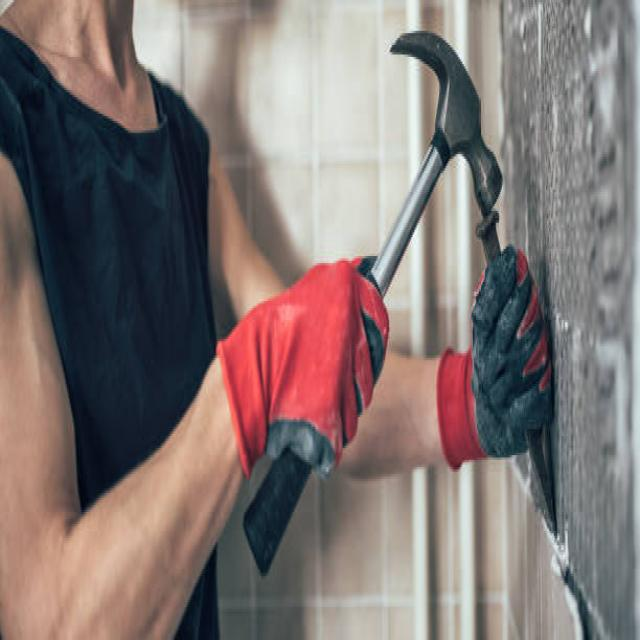gloves: (213, 249, 388, 476), (436, 249, 551, 472)
